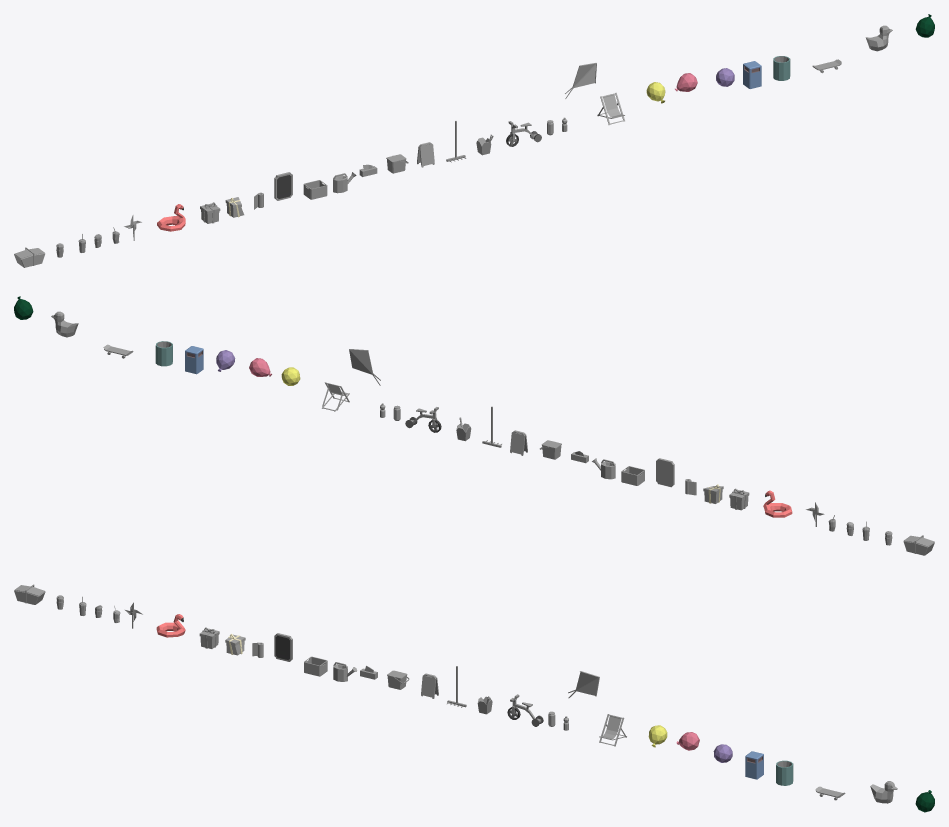
Rendered from GarbageCommon_31items.fbx.
3 renders of one model, top to bottom at view 1: azimuth 30°, elevation 25°; view 2: azimuth 150°, elevation 25°; view 3: azimuth 330°, elevation 25°, orthographic.
Visible parts, largest first — view 1: no part large enough to name; view 2: no part large enough to name; view 3: G22, G6.
Part boxes in pixels (x1=…): G22: x1=599, y1=714, x2=626, y2=746; G6: x1=274, y1=633, x2=292, y2=661.
Size of what is drawn, in the model's own units: 351 by 24.51 by 9.71.
